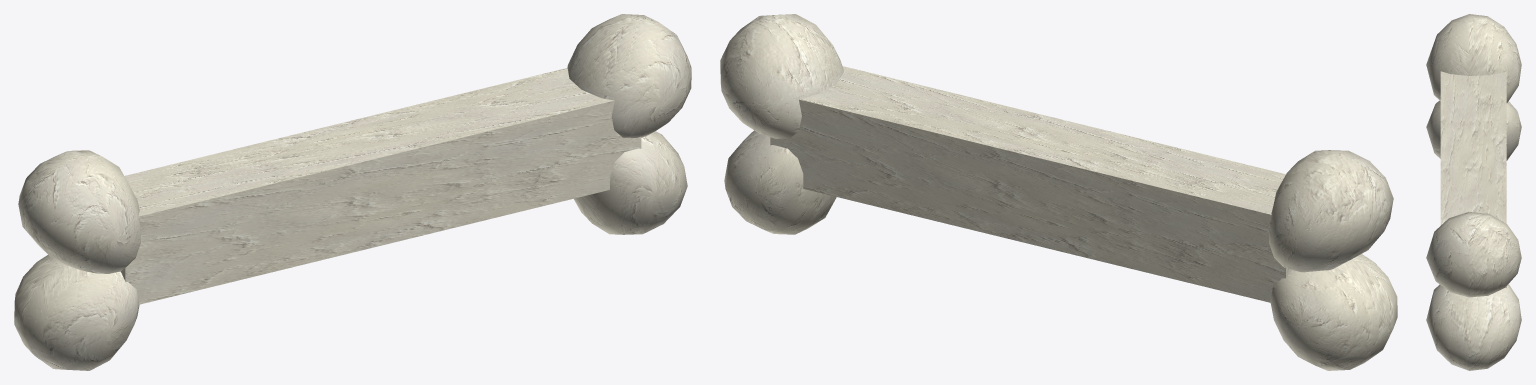
File: DogBone.fbx
3 renders of one model, left to right at view 1: azimuth 30°, elevation 25°; view 2: azimuth 150°, elevation 25°; view 3: azimuth 270°, elevation 25°, orthographic. The views are drawn at different scales.
Visible parts, largest first — view 1: Box001, Sphere005, Sphere004, Sphere002, Sphere003; view 2: Box001, Sphere005, Sphere004, Sphere002, Sphere003; view 3: Box001, Sphere002, Sphere003, Sphere005, Sphere004.
Boxes of the visible parts, x1,y1,x2,y2 form: Box001: [121, 68, 641, 304]; Sphere005: [18, 150, 140, 273]; Sphere004: [14, 255, 139, 370]; Sphere002: [567, 14, 691, 137]; Sphere003: [574, 131, 687, 234]; Box001: [770, 66, 1290, 302]; Sphere005: [1269, 150, 1393, 272]; Sphere004: [1270, 254, 1397, 370]; Sphere002: [720, 14, 843, 138]; Sphere003: [724, 130, 836, 234]; Box001: [1440, 71, 1506, 289]; Sphere002: [1426, 212, 1521, 297]; Sphere003: [1426, 284, 1521, 370]; Sphere005: [1426, 14, 1521, 102]; Sphere004: [1426, 100, 1521, 160].
Size of the model in its own units: 39.2 by 11.99 by 6.71.
Materials: 1 (1 with a texture image).
